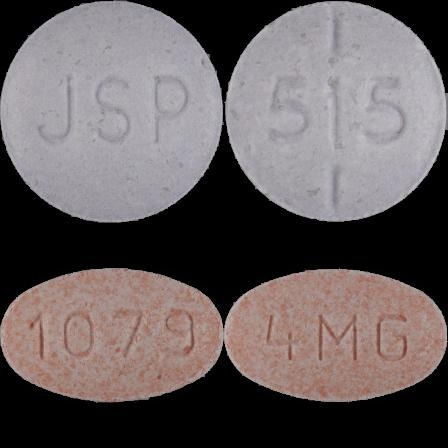63187-549: (0, 0, 224, 224)
